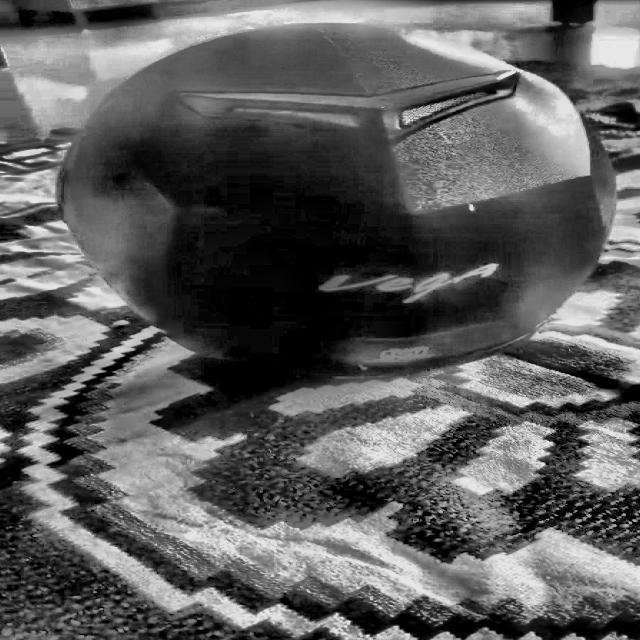Helmet: (59, 25, 614, 372)
